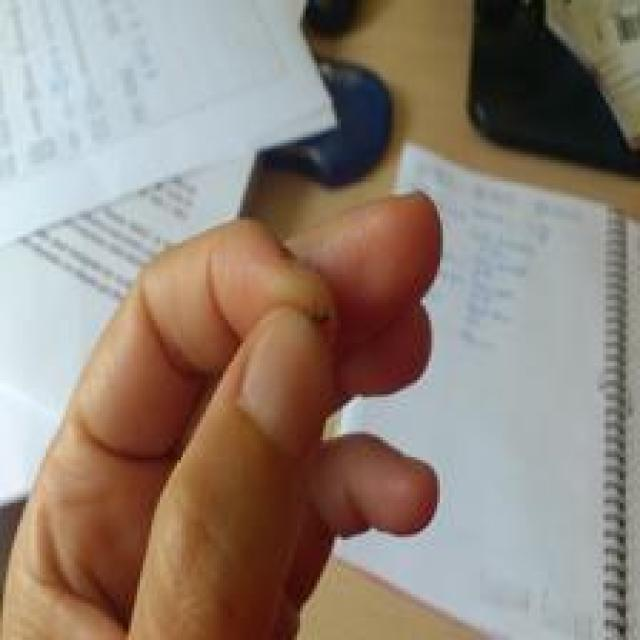Aedes albopictus: (0, 0, 394, 514)
